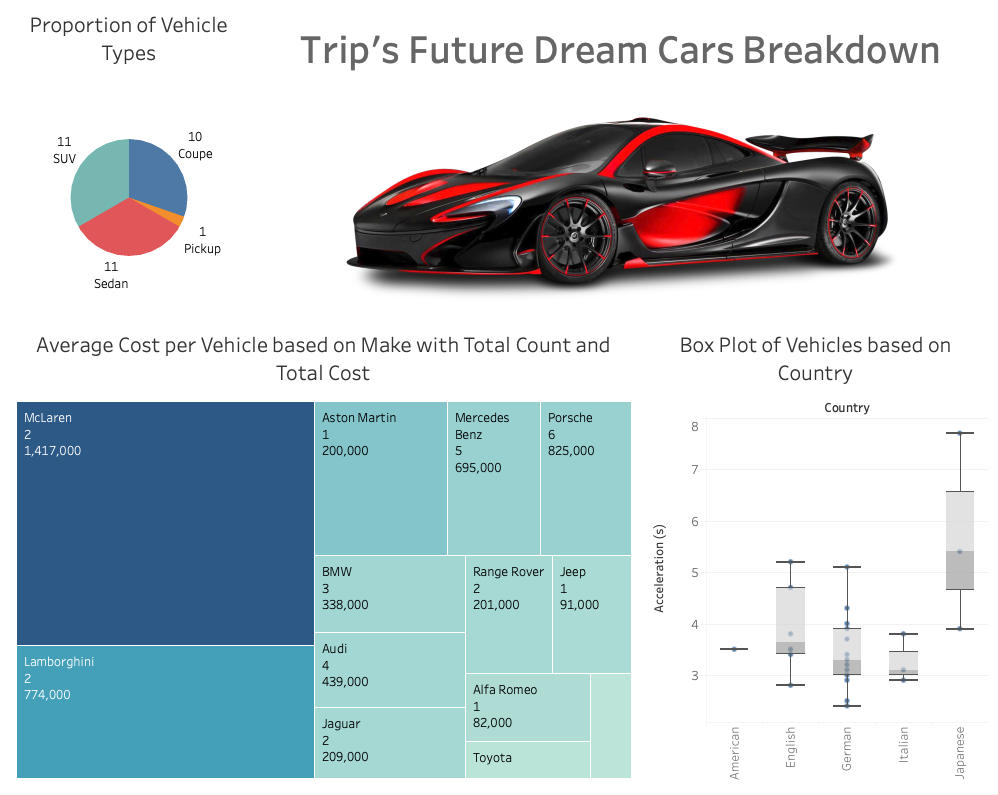

This screenshot's page, from the dashboard's own definition file:
{"tool":"tableau","page":{"name":"Dashboard 1","canvas":[1000,800],"ordinal":0},"visuals":[{"type":"worksheet","title":"Sheet 3","mark":"Pie","box":[8,8,242,320]},{"type":"text","box":[250,8,742,93]},{"type":"image","param":"/Users/tripatpanesar/Desktop/SARC 5400/a.png","box":[250,101,742,227]},{"type":"worksheet","title":"Sheet 2","mark":"Automatic","box":[8,328,631,464]},{"type":"worksheet","title":"Sheet 4","mark":"Circle","rows":["Acceleration (s)"],"cols":["Country"],"box":[639,328,353,464]}]}

Visuals, with their boxes in screenshot pixels (x1, y1, x2, y2), scaled from the page's 1000x800 canvas onto the 998x795 screenshot:
"Sheet 3" worksheet (Pie marks): detection(8, 8, 250, 326)
text: detection(250, 8, 990, 100)
image: detection(250, 100, 990, 326)
"Sheet 2" worksheet: detection(8, 326, 638, 787)
"Sheet 4" worksheet (Circle marks): detection(638, 326, 990, 787)
